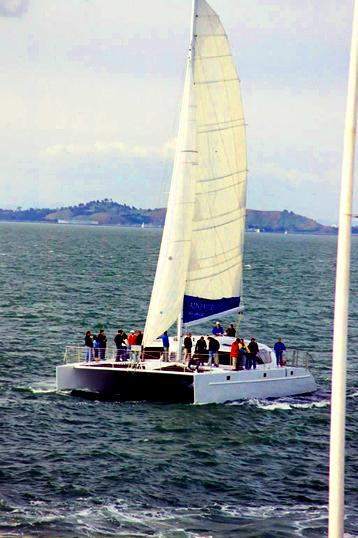Ship: (57, 1, 316, 412)
